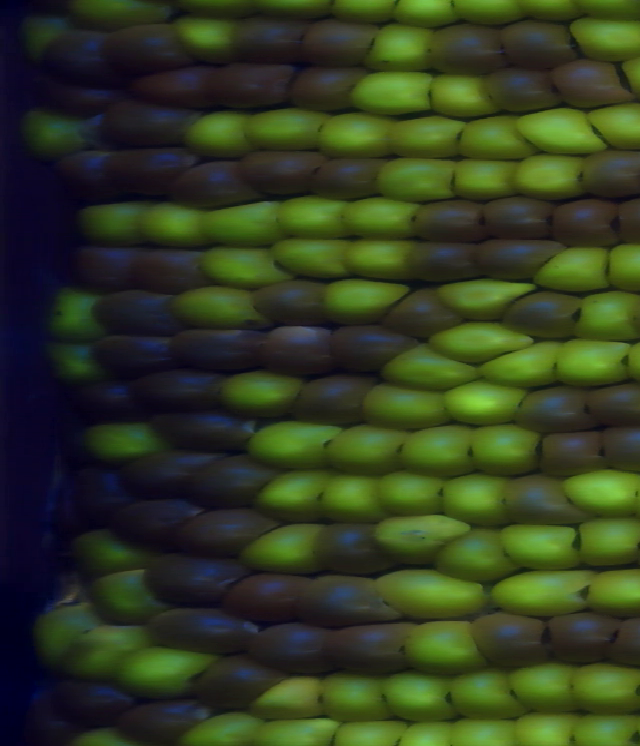fluorescent: (380, 571, 485, 621), (492, 570, 593, 619), (378, 347, 480, 392), (429, 322, 532, 365), (431, 527, 510, 583), (530, 244, 613, 295), (73, 624, 147, 681), (402, 622, 483, 674), (122, 646, 205, 696), (248, 423, 332, 472), (483, 339, 559, 392), (324, 426, 400, 479), (359, 382, 448, 427), (519, 110, 606, 156), (257, 468, 324, 527), (353, 68, 433, 117), (443, 380, 523, 429), (383, 672, 454, 727), (242, 522, 317, 574), (503, 521, 578, 572), (203, 246, 287, 291), (469, 426, 543, 477), (323, 280, 412, 322), (570, 662, 640, 715), (346, 192, 416, 244), (172, 286, 260, 327), (560, 472, 640, 517), (441, 473, 506, 528), (554, 339, 628, 387), (321, 674, 390, 725), (242, 110, 327, 151), (203, 201, 282, 245), (319, 113, 394, 159), (448, 671, 521, 718), (428, 72, 499, 120), (216, 371, 299, 412), (401, 428, 473, 475), (380, 514, 460, 556), (368, 22, 432, 74), (574, 290, 638, 342), (377, 159, 454, 202), (93, 572, 155, 625), (387, 117, 463, 160), (341, 237, 417, 280), (433, 280, 537, 311), (136, 201, 206, 246), (271, 235, 346, 277), (518, 155, 582, 204), (577, 518, 640, 567), (509, 662, 573, 710), (571, 17, 640, 61), (461, 117, 528, 162), (454, 157, 523, 200), (78, 531, 145, 575), (184, 112, 245, 160), (279, 195, 347, 238), (81, 202, 143, 248), (379, 474, 443, 517), (174, 15, 232, 62), (254, 678, 322, 718), (177, 710, 250, 746), (36, 605, 81, 662), (49, 288, 102, 336), (325, 475, 381, 520), (589, 569, 640, 617), (87, 422, 161, 455), (48, 334, 98, 382), (252, 716, 334, 745), (26, 112, 83, 153), (592, 104, 640, 152), (330, 719, 403, 746), (23, 15, 67, 55), (608, 241, 640, 292), (514, 717, 569, 746)
nonfluorescent: (179, 502, 276, 557), (143, 555, 243, 608), (151, 608, 255, 654), (189, 659, 281, 711), (298, 574, 395, 623), (191, 455, 275, 507), (168, 330, 264, 374), (257, 627, 338, 679), (149, 412, 253, 452), (388, 285, 464, 339), (312, 520, 384, 577), (426, 23, 501, 77), (294, 377, 373, 428), (506, 473, 582, 526), (254, 327, 336, 376), (108, 145, 192, 192), (553, 57, 631, 107), (98, 107, 195, 147), (113, 702, 210, 742), (546, 611, 618, 664), (474, 615, 548, 666), (337, 625, 419, 671), (106, 22, 185, 69), (501, 18, 572, 70), (503, 291, 579, 339), (513, 387, 594, 432), (123, 454, 208, 496), (93, 292, 174, 336), (253, 277, 328, 324), (230, 576, 303, 624), (473, 240, 565, 278), (91, 334, 176, 375), (333, 324, 412, 368), (243, 153, 323, 196), (549, 198, 616, 249), (211, 64, 292, 105), (180, 162, 255, 206), (124, 247, 202, 289), (60, 676, 132, 721), (304, 19, 370, 68), (486, 68, 553, 116), (482, 193, 553, 238), (119, 502, 188, 548), (137, 374, 220, 412), (575, 149, 640, 197), (124, 71, 213, 106), (313, 154, 381, 199), (43, 30, 104, 80), (405, 242, 475, 285), (68, 472, 128, 522), (231, 19, 300, 62), (291, 70, 356, 115), (414, 199, 483, 241), (542, 431, 604, 476), (35, 77, 112, 112), (81, 378, 137, 420), (60, 153, 113, 197), (76, 249, 124, 292), (598, 426, 640, 474), (585, 386, 640, 422)
